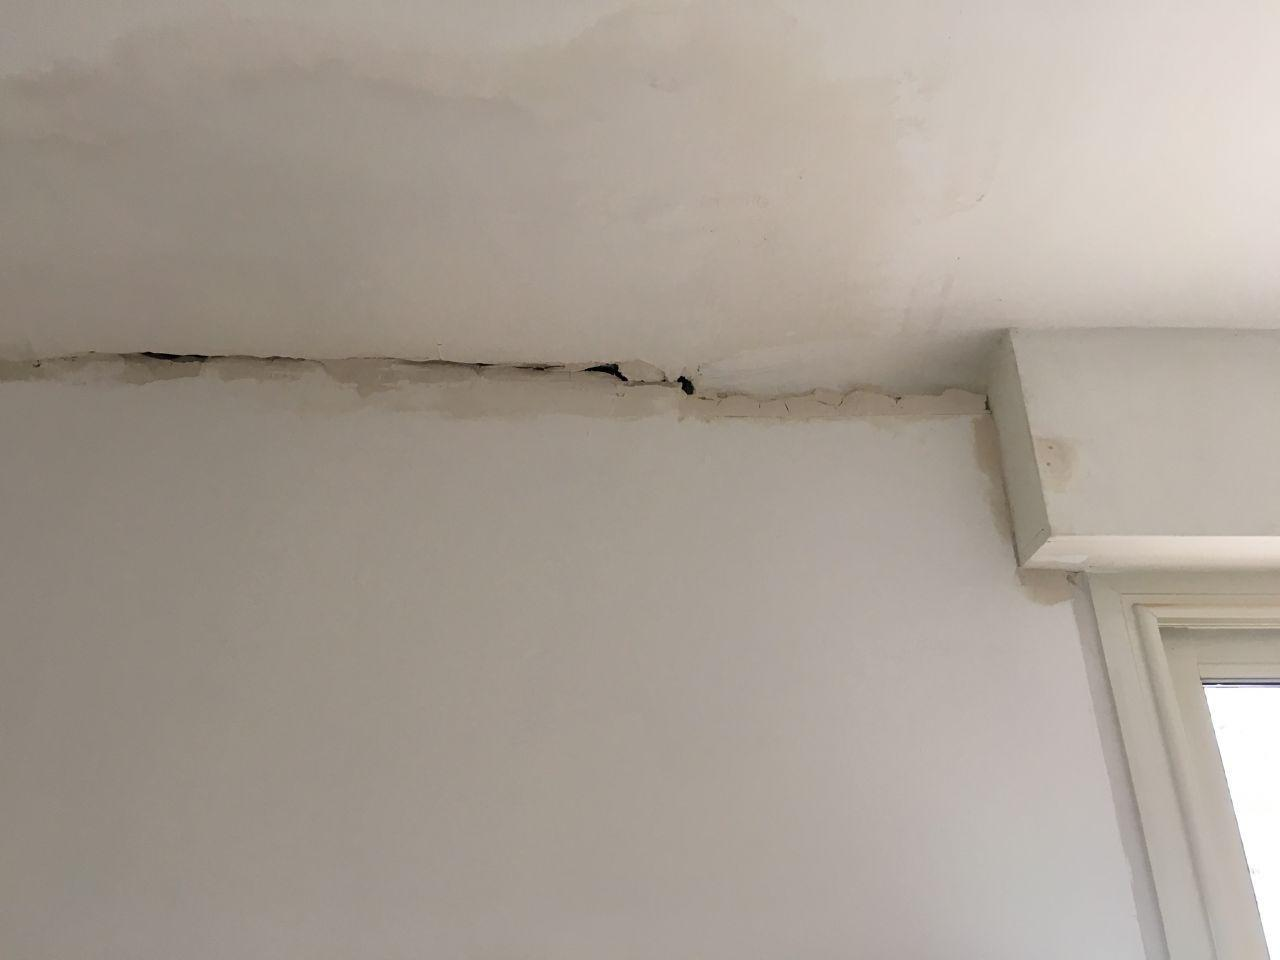crack: (123, 351, 696, 395)
